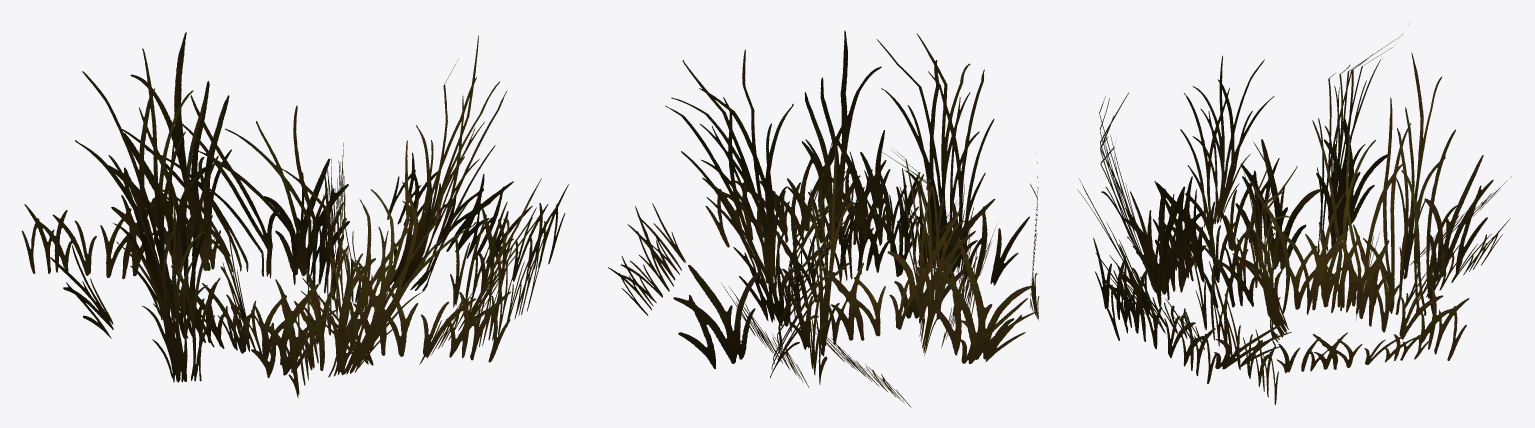
The picture shows the model from 3 angles, left to right: view 1: azimuth 30°, elevation 25°; view 2: azimuth 150°, elevation 25°; view 3: azimuth 270°, elevation 25°; orthographic projection. The views are drawn at different scales.
Visible parts, largest first — view 1: SM_DR_GrassLong_01_LOD0; view 2: SM_DR_GrassLong_01_LOD0; view 3: SM_DR_GrassLong_01_LOD0.
Boxes of the visible parts, box(x1,y1,x2,y2) form: SM_DR_GrassLong_01_LOD0: box(21, 32, 568, 398); SM_DR_GrassLong_01_LOD0: box(608, 30, 1039, 407); SM_DR_GrassLong_01_LOD0: box(1077, 35, 1511, 404).
Size of the model in its own units: 1.13 by 0.6198 by 0.9578.
Materials: 1 (1 with a texture image).
